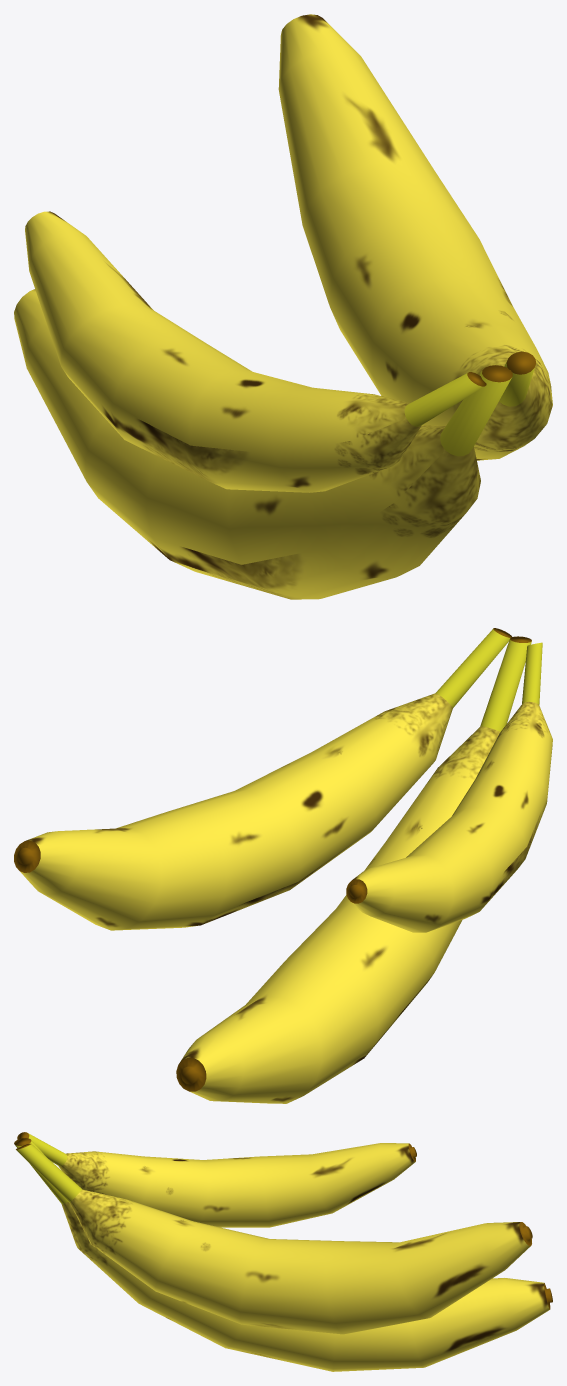
The model's file is bananas.dae.
The picture shows the model from 3 angles, top to bottom: view 1: azimuth 30°, elevation 25°; view 2: azimuth 150°, elevation 25°; view 3: azimuth 270°, elevation 25°; orthographic projection. The views are drawn at different scales.
Parts seen in each view (by area): view 1: Cylinder1_default.001, Cylinder1_default.002, Cylinder1_default; view 2: Cylinder1_default.001, Cylinder1_default, Cylinder1_default.002; view 3: Cylinder1_default.001, Cylinder1_default.002, Cylinder1_default.
Boxes of the visible parts, x1,y1,x2,y2 form: Cylinder1_default.001: (278, 14, 552, 460); Cylinder1_default.002: (25, 211, 486, 492); Cylinder1_default: (14, 289, 512, 599); Cylinder1_default.001: (14, 628, 511, 930); Cylinder1_default: (176, 636, 531, 1103); Cylinder1_default.002: (346, 642, 552, 932); Cylinder1_default.001: (16, 1143, 532, 1334); Cylinder1_default.002: (17, 1132, 416, 1227); Cylinder1_default: (14, 1138, 552, 1371).
Size of the model in its own units: 2.94 by 5.33 by 2.52.
